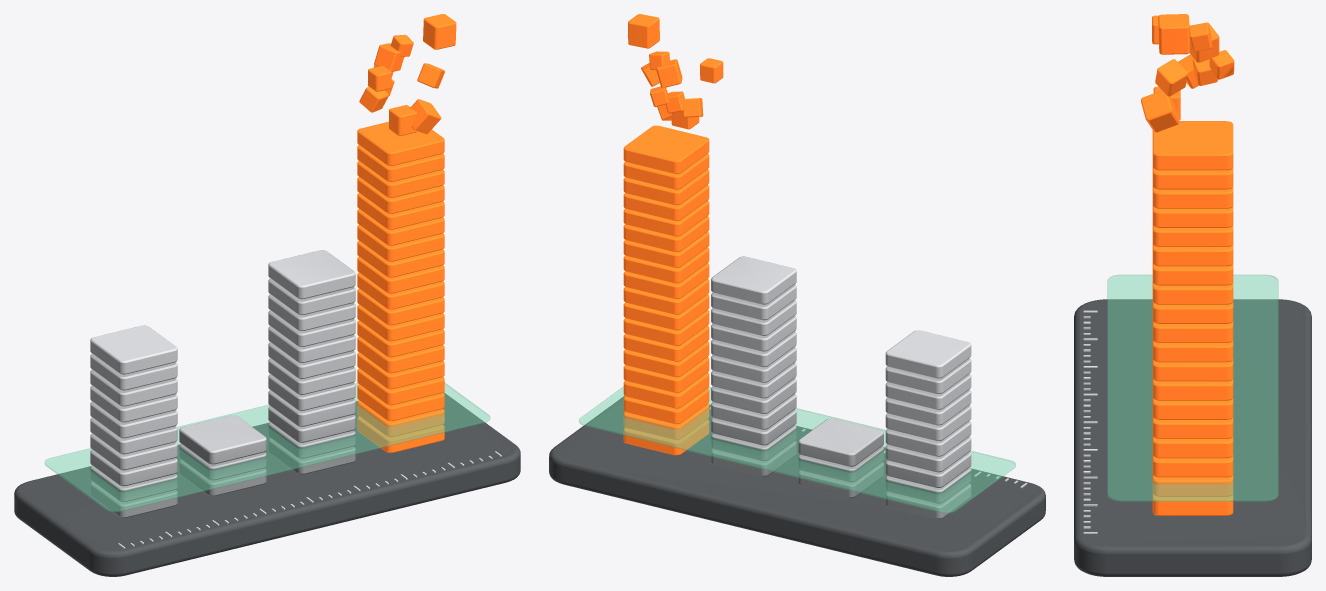
The model's file is bars.glb.
3 renders of one model, left to right at view 1: azimuth 30°, elevation 25°; view 2: azimuth 150°, elevation 25°; view 3: azimuth 270°, elevation 25°, orthographic. The views are drawn at different scales.
Visible parts, largest first — view 1: RE2_BarsBlocks, RE2_BarsPlinth, RE2_BarsWorst, RE2_BarsVaR; view 2: RE2_BarsBlocks, RE2_BarsPlinth, RE2_BarsWorst, RE2_BarsVaR; view 3: RE2_BarsPlinth, RE2_BarsWorst, RE2_BarsVaR, RE2_BarsTicks.
Part boxes in pixels (x1,y1,x2,y2): RE2_BarsBlocks: [90, 250, 355, 517]; RE2_BarsPlinth: [14, 392, 520, 576]; RE2_BarsWorst: [357, 14, 456, 452]; RE2_BarsVaR: [44, 383, 490, 511]; RE2_BarsBlocks: [711, 256, 971, 519]; RE2_BarsPlinth: [549, 396, 1045, 576]; RE2_BarsWorst: [623, 14, 723, 455]; RE2_BarsVaR: [579, 387, 1015, 512]; RE2_BarsPlinth: [1074, 299, 1311, 576]; RE2_BarsWorst: [1141, 14, 1234, 515]; RE2_BarsVaR: [1107, 275, 1278, 501]; RE2_BarsTicks: [1083, 310, 1097, 533].
Bounding box in the file's own units: 2.5 × 2.46 × 0.9999.
